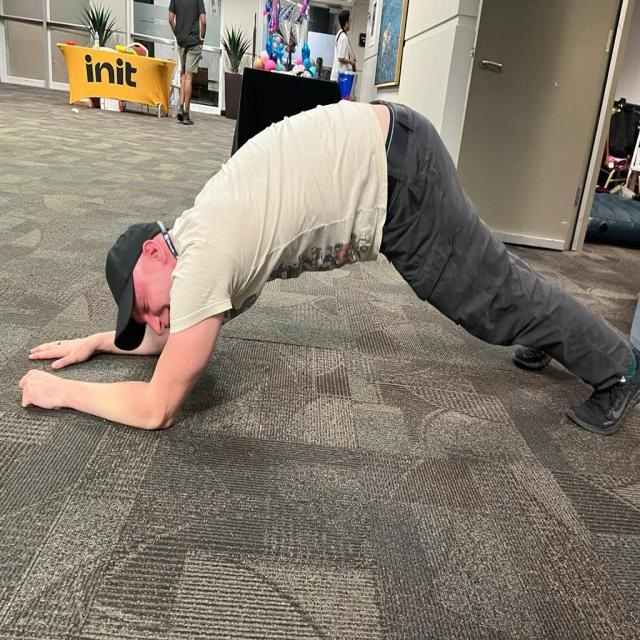plank: (10, 88, 640, 448)
